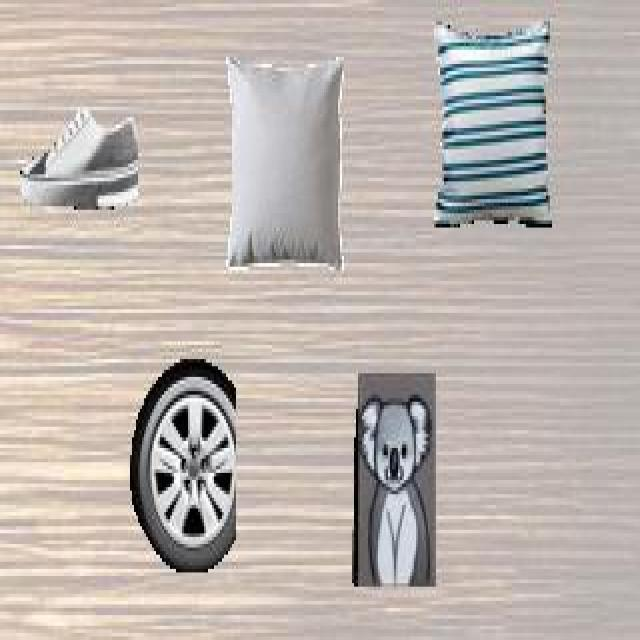Other Objects: (225, 56, 345, 274), (434, 19, 552, 230), (19, 108, 140, 210)
